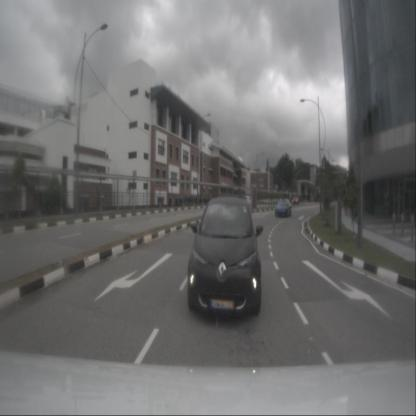vehicle-car: (188, 196, 262, 321), (275, 198, 292, 218), (292, 197, 300, 204)
